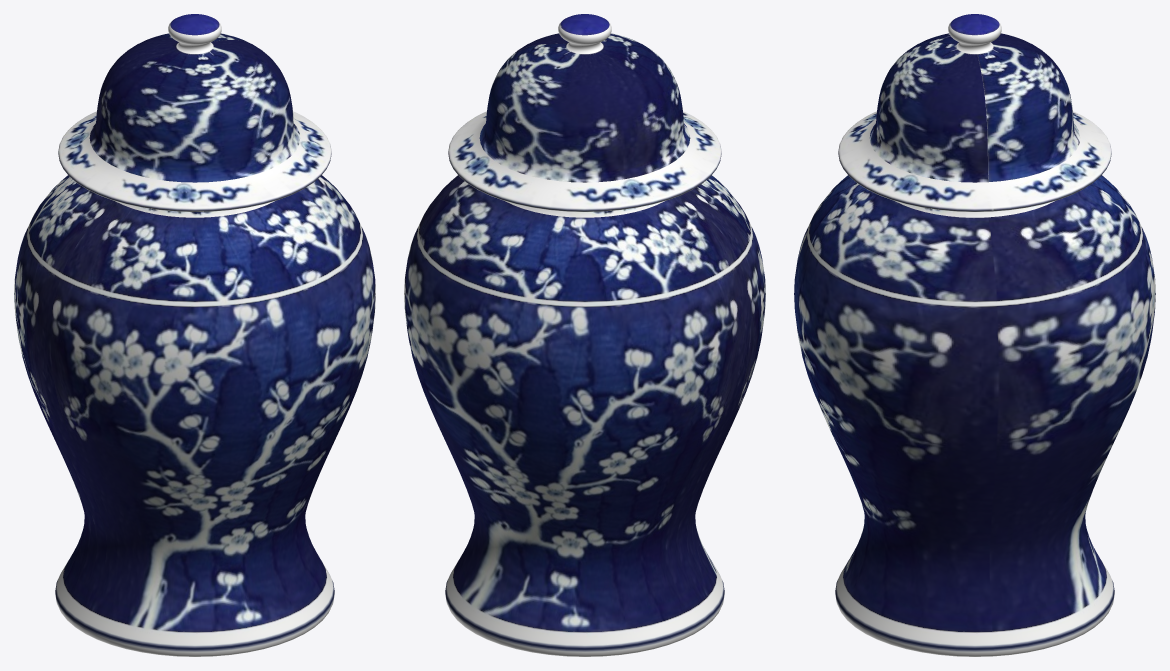
Rendered from Pot1.fbx.
3 views of the same model, side by side, from view 1: azimuth 30°, elevation 25°; view 2: azimuth 150°, elevation 25°; view 3: azimuth 270°, elevation 25° (orthographic).
Parts seen in each view (by area): view 1: Vase.001; view 2: Vase.001; view 3: Vase.001.
Boxes of the visible parts, box(x1,y1,x2,y2) form: Vase.001: box(14, 14, 375, 656); Vase.001: box(404, 14, 765, 656); Vase.001: box(794, 14, 1155, 656).
Size of the model in its own units: 30.05 by 53.29 by 30.05.
Materials: 1 (1 with a texture image).
